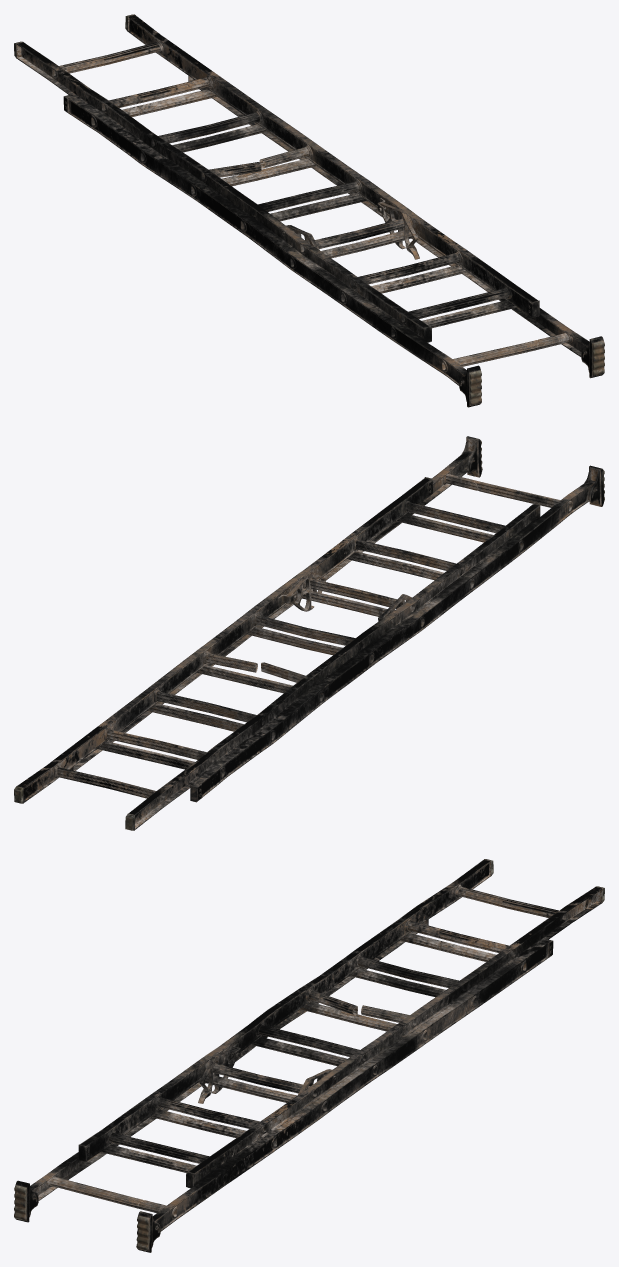
File: Ladder_VRay_StemCell.fbx
3 views of the same model, one above another, from view 1: azimuth 30°, elevation 25°; view 2: azimuth 150°, elevation 25°; view 3: azimuth 330°, elevation 25° (orthographic).
Parts seen in each view (by area): view 1: Construction_Ladders; view 2: Construction_Ladders; view 3: Construction_Ladders.
Part boxes in pixels (bbox=[...]): Construction_Ladders: bbox=[14, 14, 604, 407]; Construction_Ladders: bbox=[14, 436, 604, 830]; Construction_Ladders: bbox=[14, 859, 604, 1252].
Bounding box in the file's own units: 74.62 × 20.24 × 439.
Materials: 1 (1 with a texture image).
